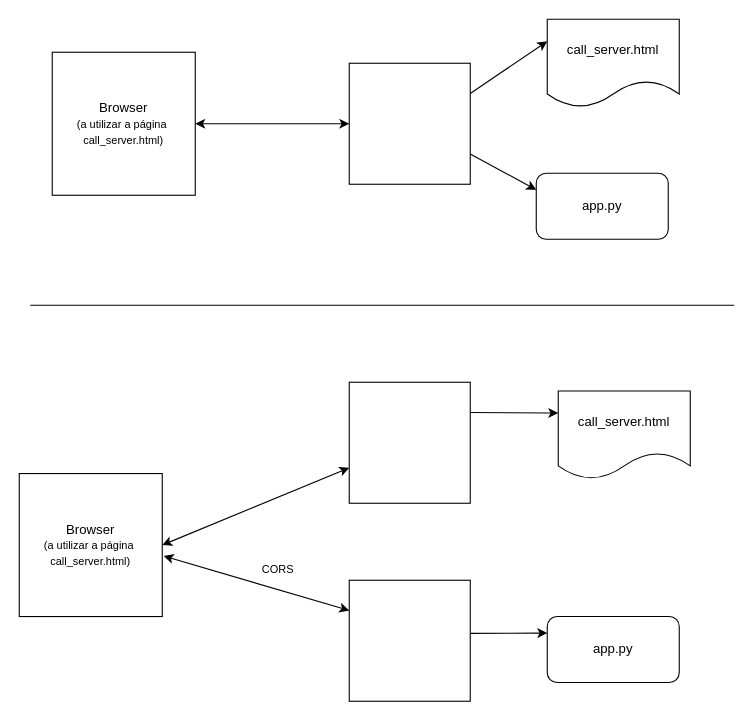
The diagram is 755 pixels wide and 721 high, and some of its shapes have lost their labels. The centre of each missing label's shape, as x and y in pixels:
WebServer (uvicorn + FastAPI): point (409, 123)
WebServer 1 (conteúdos estáticos eg: VS Code Live Server): point (409, 442)
WebServer 2 (uvicorn + FastAPI): point (409, 640)
